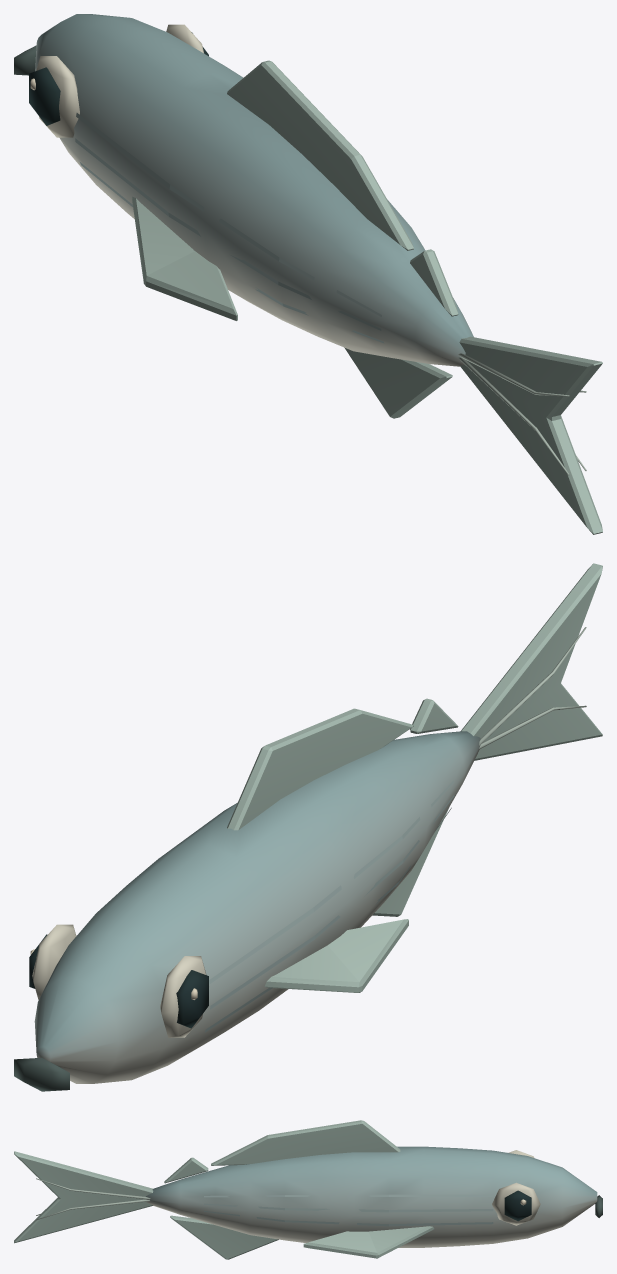
The model's file is fish_smelt.glb.
The picture shows the model from 3 angles, top to bottom: view 1: azimuth 30°, elevation 25°; view 2: azimuth 150°, elevation 25°; view 3: azimuth 270°, elevation 25°; orthographic projection. The views are drawn at different scales.
Size of the model in its own units: 0.0223 by 0.0258 by 0.0998.
